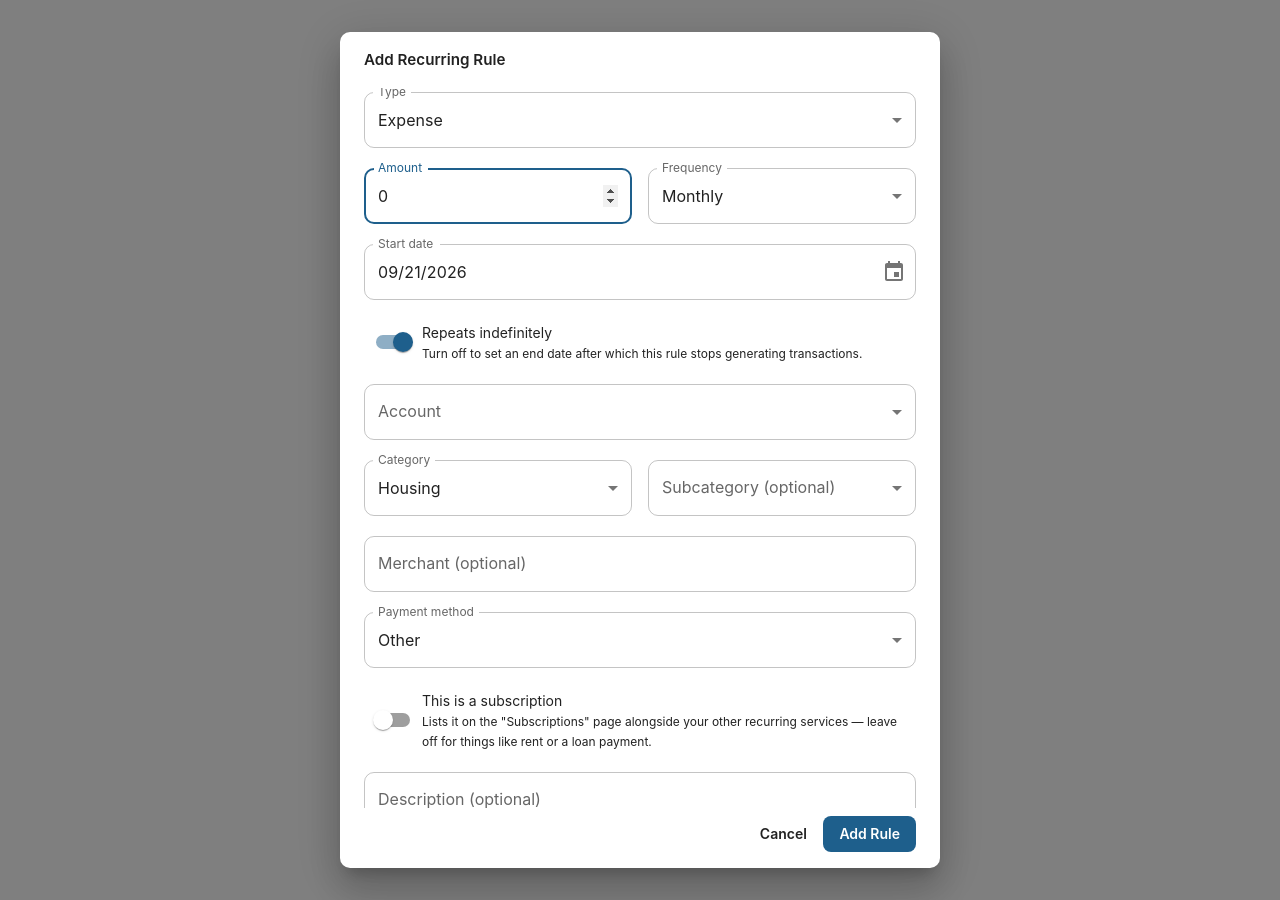
it: RecurringTransactionFormDialog › shows the Source field (not merchant/subcategory) once switched to Income
Press the mouse on the dropdown named "Type" at (410, 120), box x1=378 y1=110 x2=443 y2=130
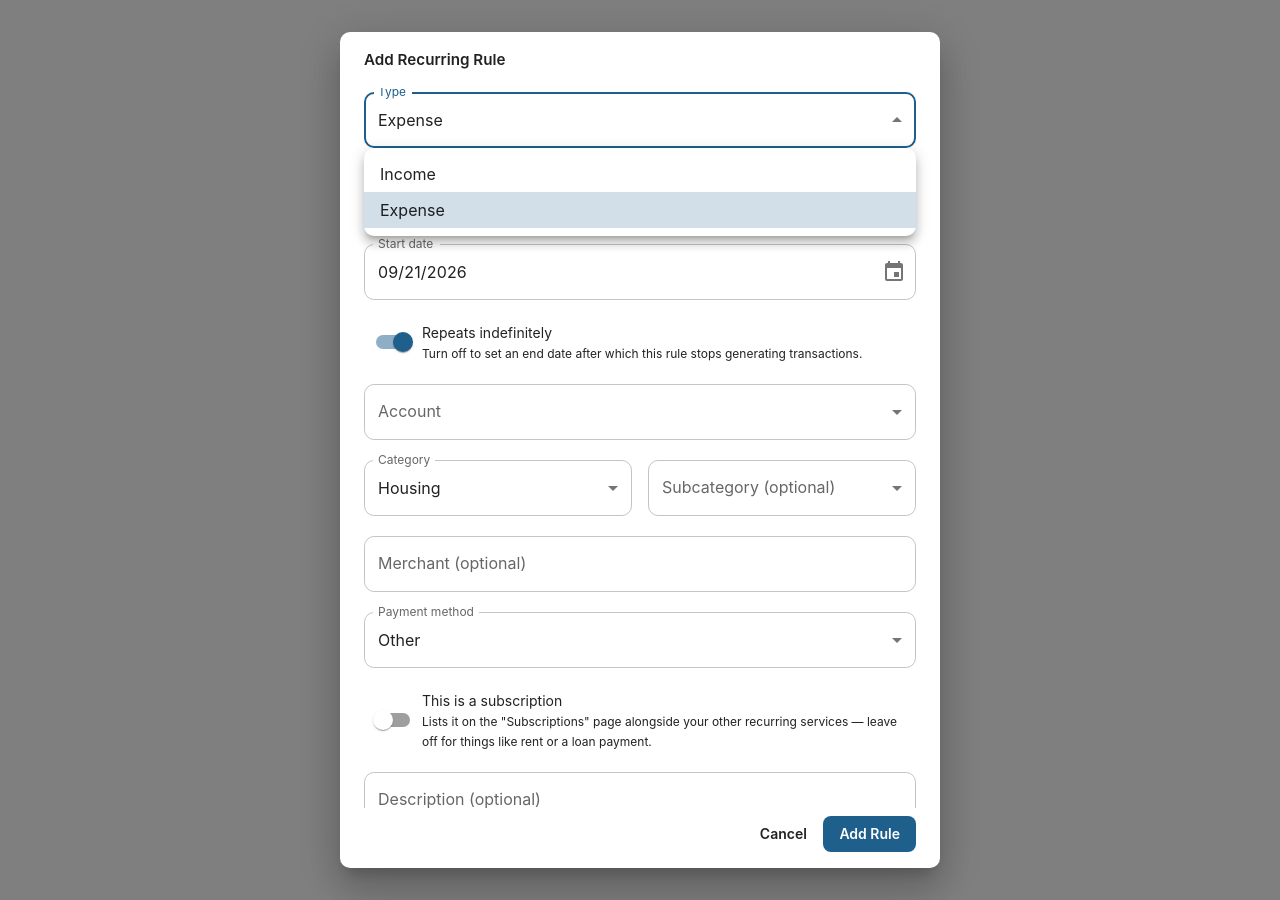
Click the option "Income".
click(408, 174)  # box x1=380 y1=164 x2=436 y2=184
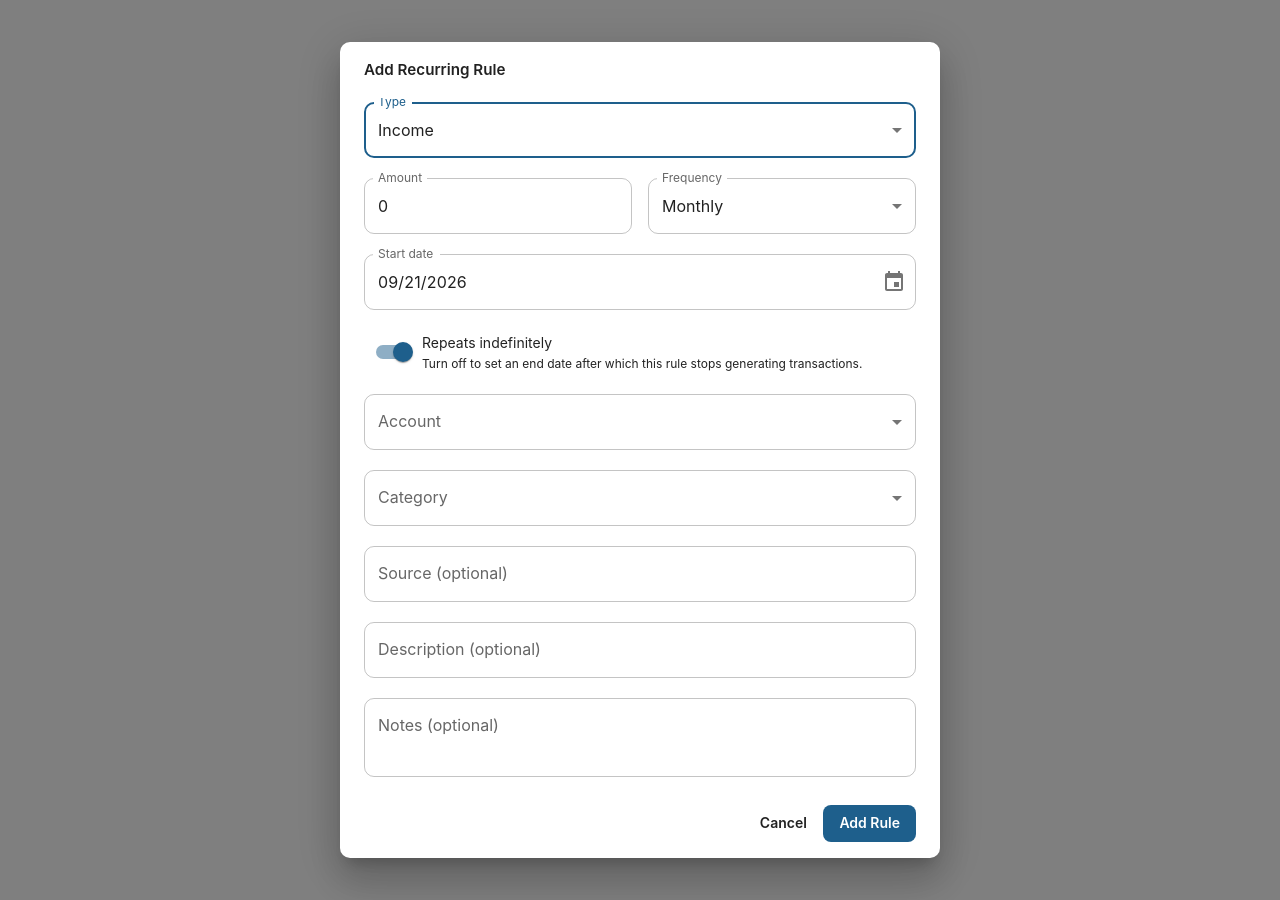
Expected: the list is gone
Expected: the label labelled "Merchant (optional)" is gone
Expected: the label labelled "Payment method" is gone
